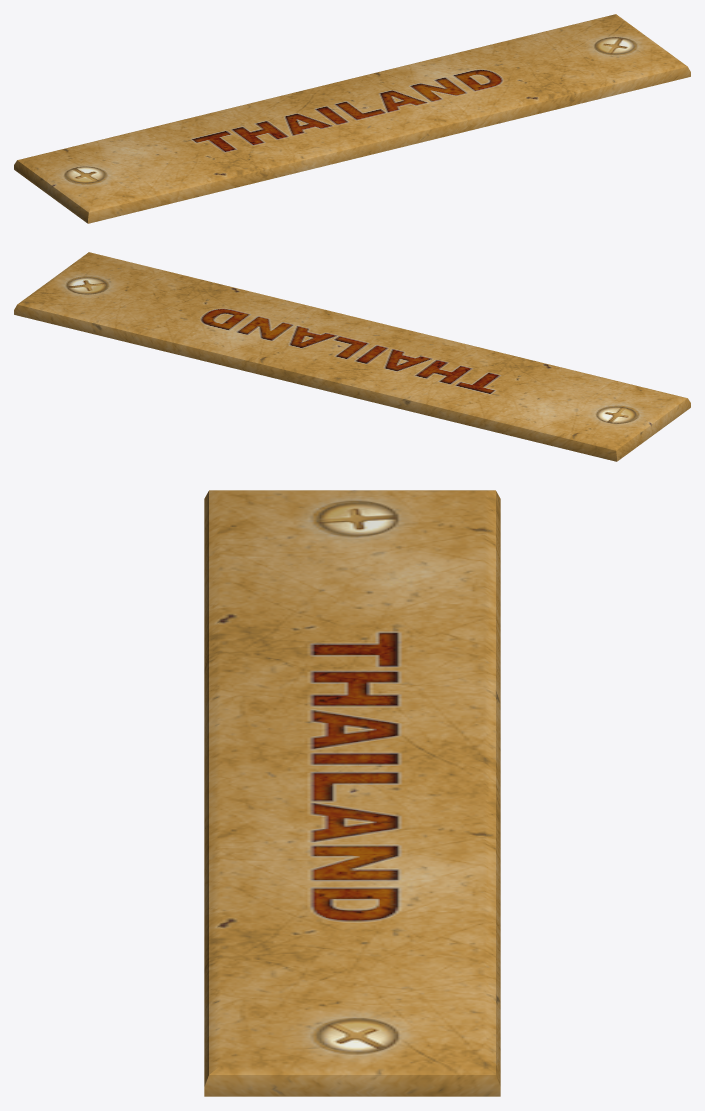
File: mdl_hub_plaque_thailand.gltf
3 views of the same model, one above another, from view 1: azimuth 30°, elevation 25°; view 2: azimuth 150°, elevation 25°; view 3: azimuth 270°, elevation 25° (orthographic). The views are drawn at different scales.
Parts seen in each view (by area): view 1: mdl_hub_plaque_thailand; view 2: mdl_hub_plaque_thailand; view 3: mdl_hub_plaque_thailand.
Boxes of the visible parts, <box> form: mdl_hub_plaque_thailand: <box>14,14,690,223</box>; mdl_hub_plaque_thailand: <box>14,252,690,461</box>; mdl_hub_plaque_thailand: <box>204,490,500,1096</box>.
Size of the model in its own units: 0.3 by 0.00568 by 0.0638.
1 material, 1 textured.
